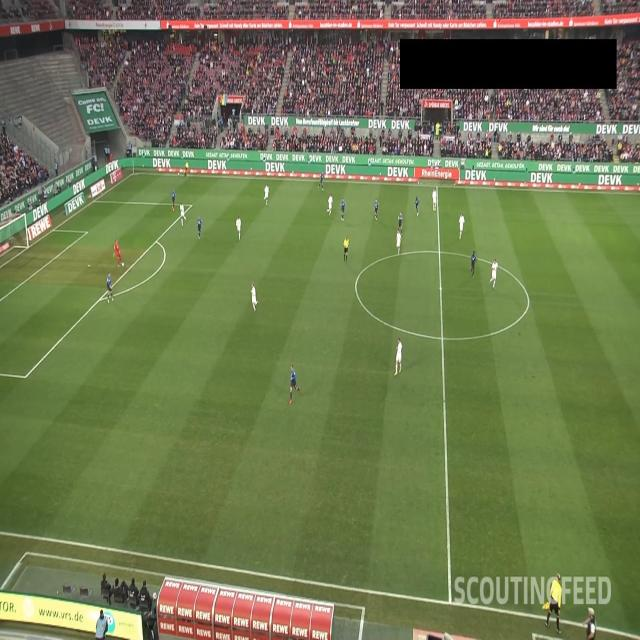ball: (122, 262, 125, 267)
